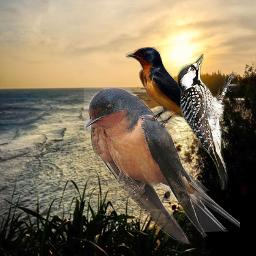Swallow: (84, 86, 240, 244), (125, 47, 225, 139)
Woodpecker: (177, 54, 240, 190)
